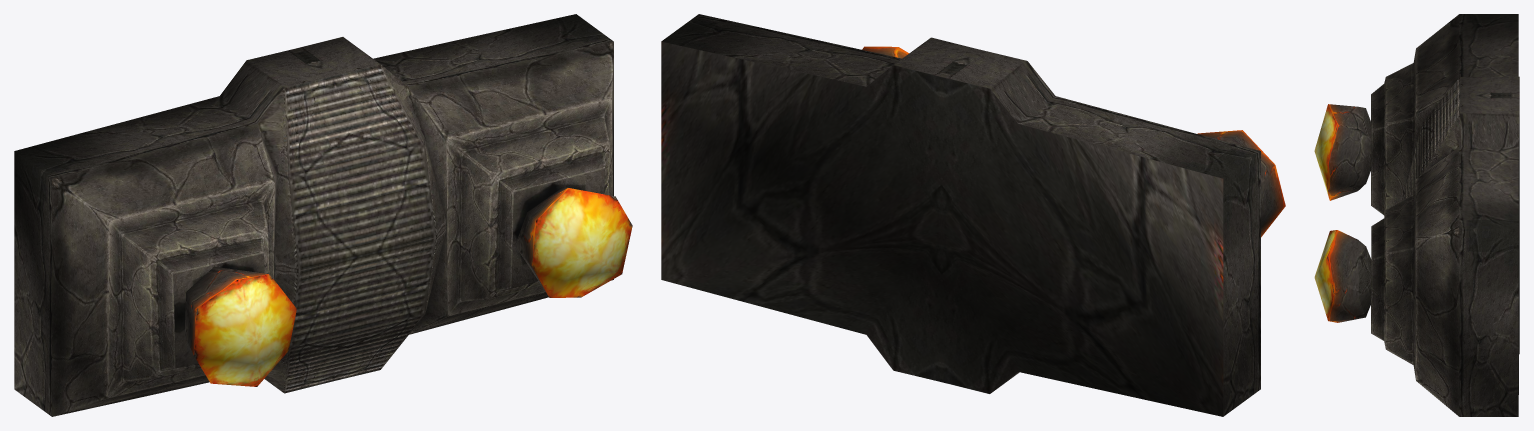
File: Altar-misc-03.obj
The picture shows the model from 3 angles, left to right: view 1: azimuth 30°, elevation 25°; view 2: azimuth 150°, elevation 25°; view 3: azimuth 270°, elevation 25°; orthographic projection. The views are drawn at different scales.
Visible parts, largest first — view 1: (null); view 2: (null); view 3: (null).
Part boxes in pixels (left/top/right/bottom): (null): left=14, top=14, right=632, bottom=416; (null): left=661, top=14, right=1285, bottom=416; (null): left=1314, top=14, right=1519, bottom=416.
Size of the model in its own units: 5.34 by 2.77 by 2.14.
